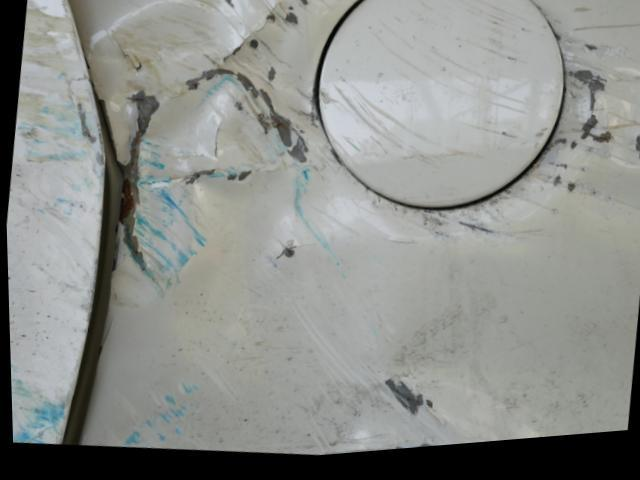dent: (96, 0, 304, 305), (5, 0, 94, 307)
scratch: (94, 374, 527, 460), (482, 47, 640, 231), (8, 349, 71, 445)
